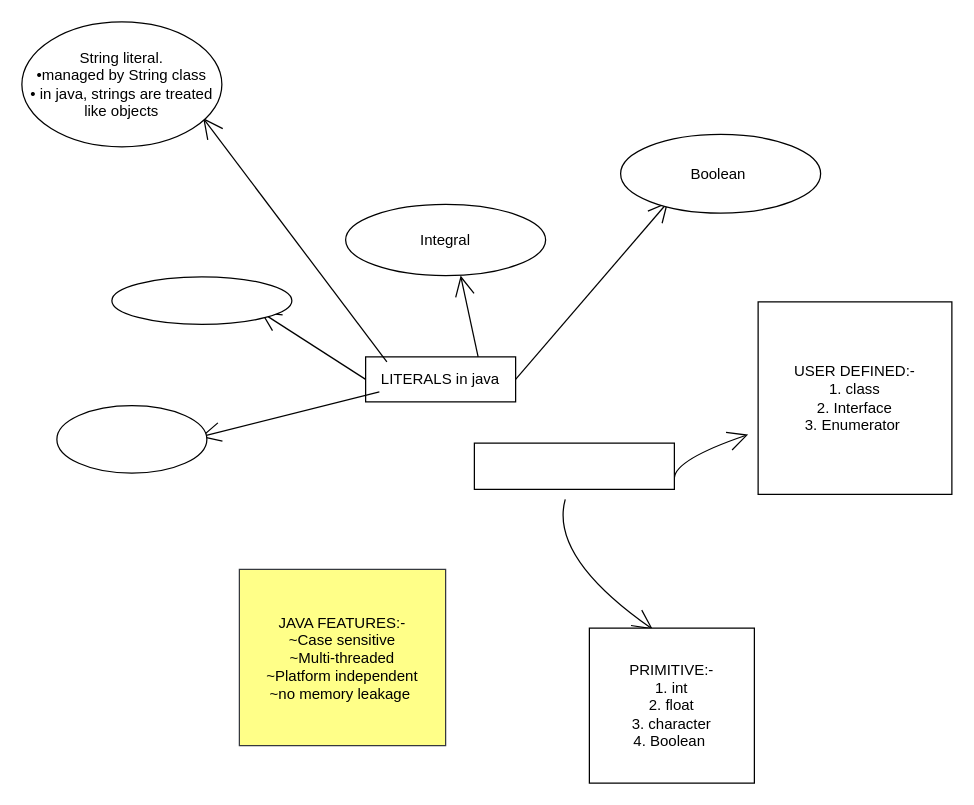
This 974x805 diagram has some shape labels left out. Here are the shapes that lost their labels. From the top down, the box of each, then its label:
(111, 276, 292, 324): Floating
(56, 404, 207, 473): Character
(473, 442, 674, 489): DATA TYPES in java
